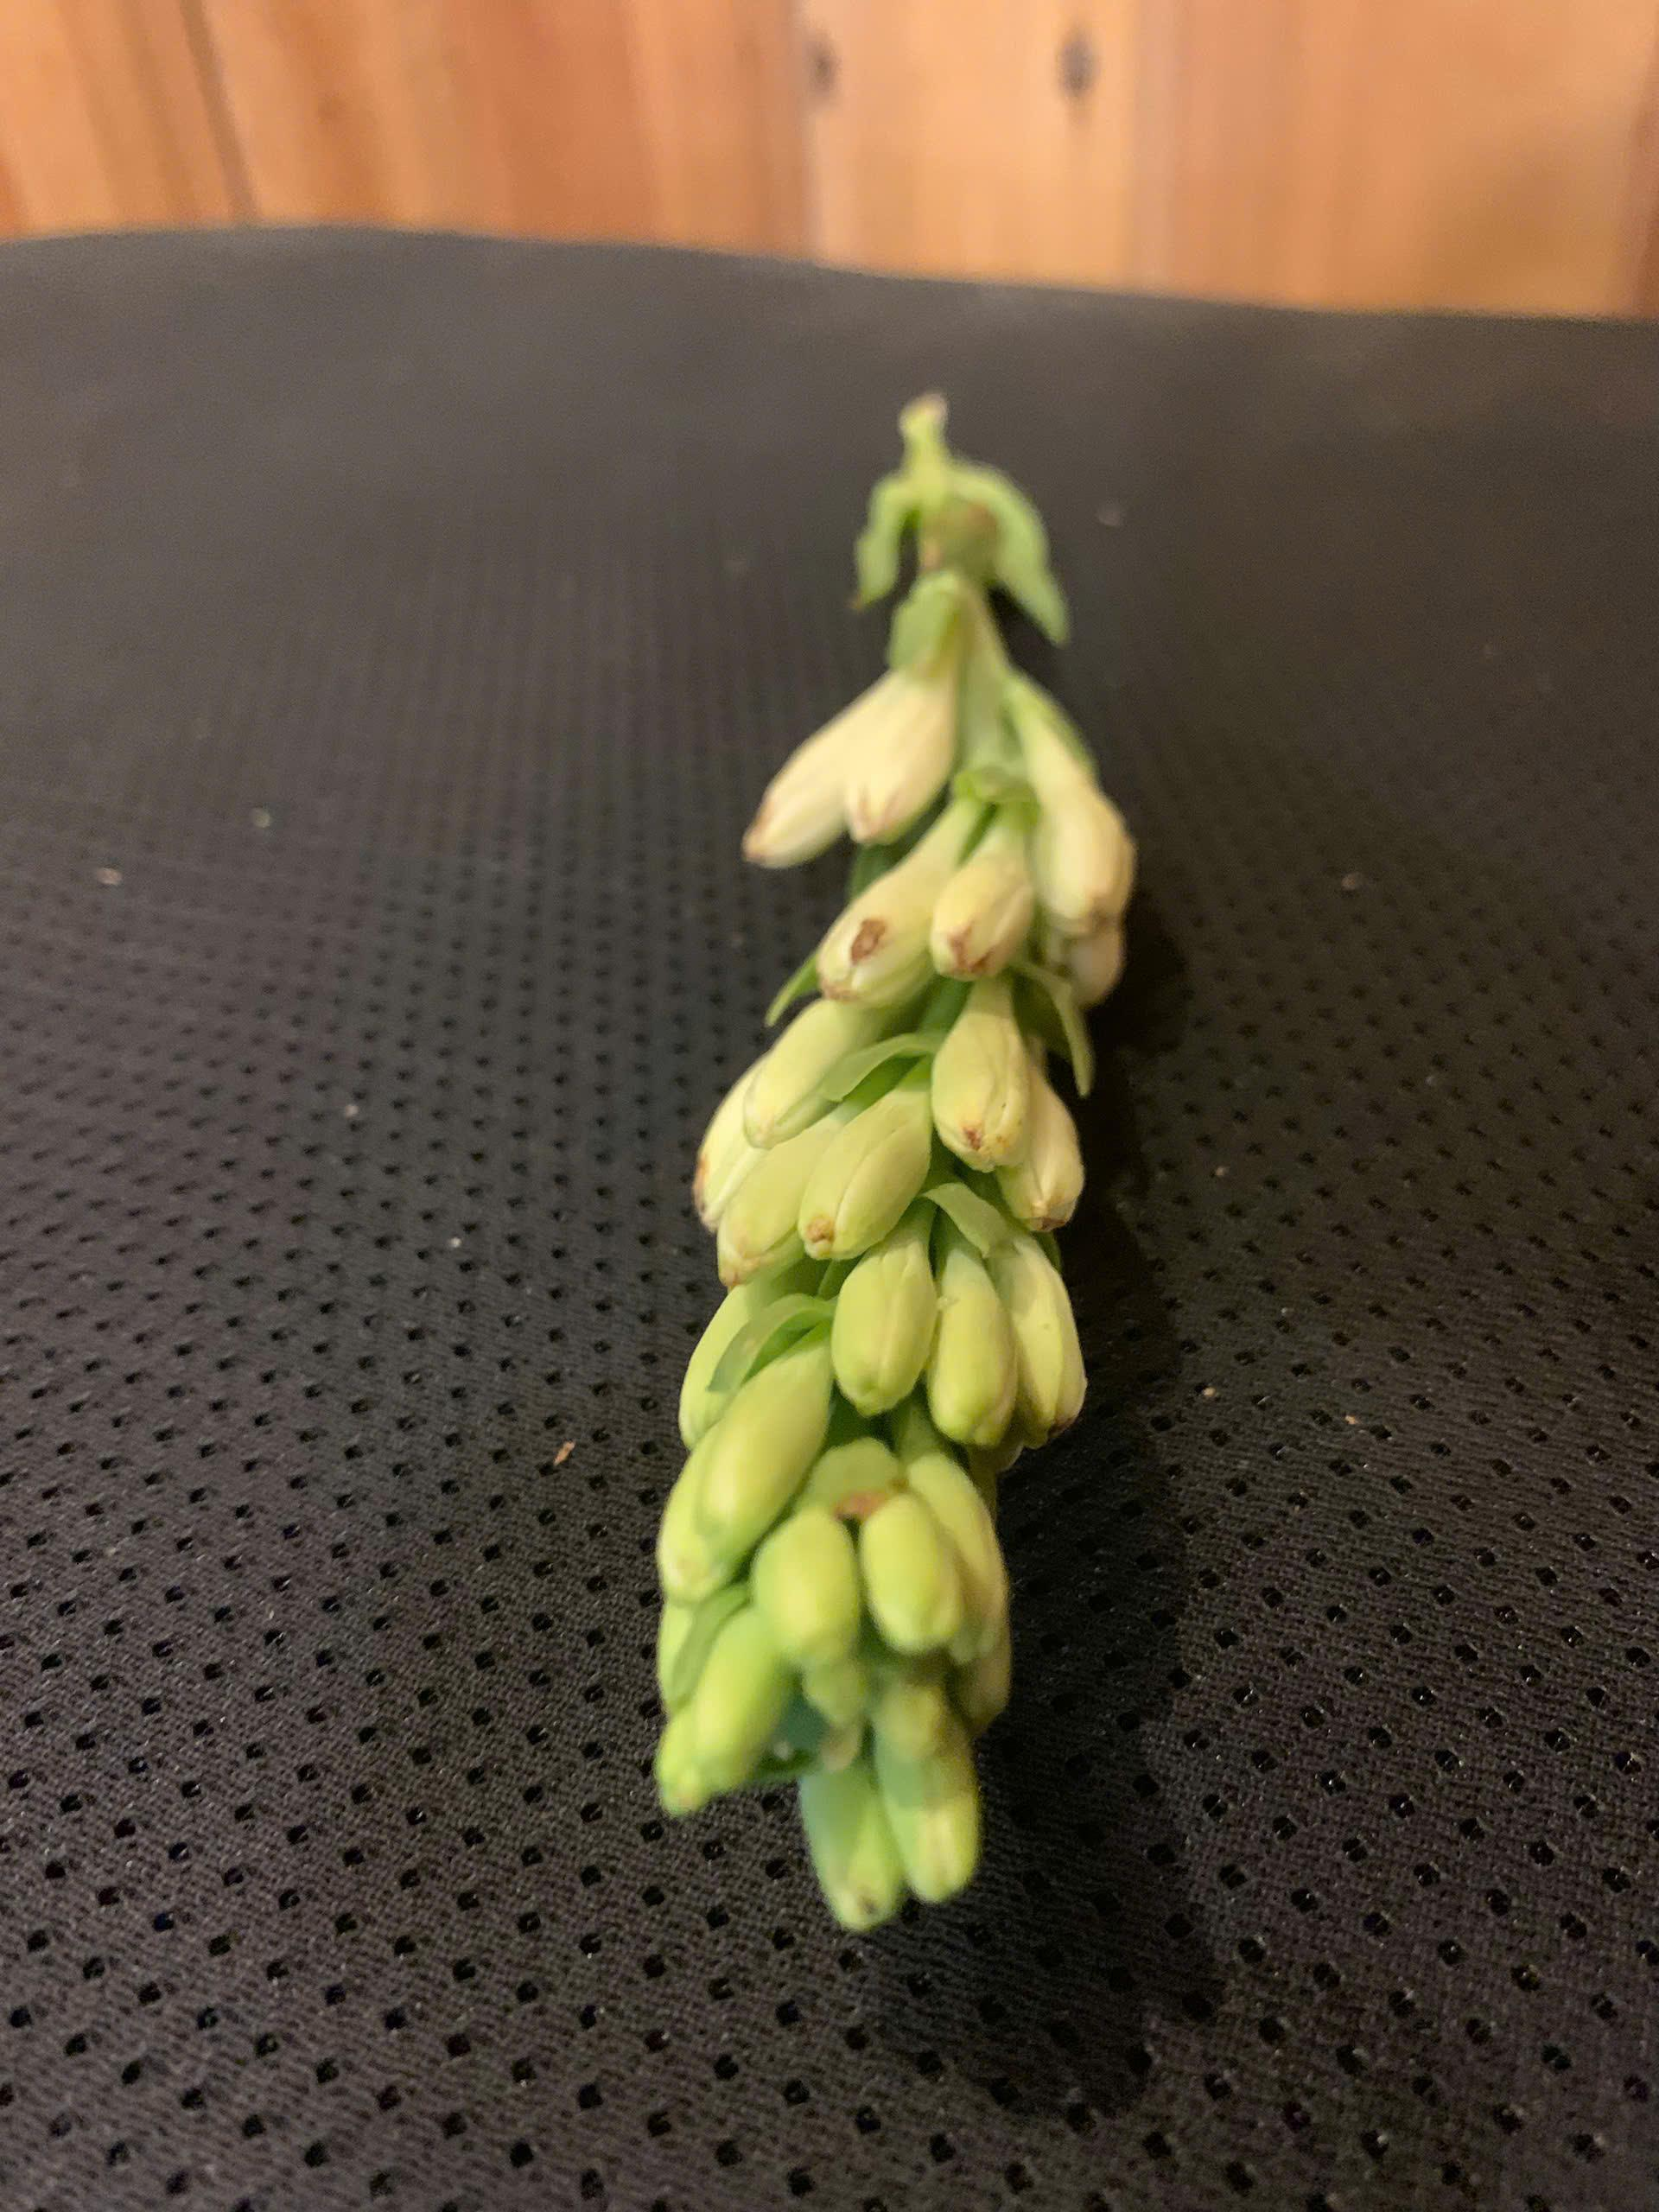Huu co: (648, 394, 1134, 1940)
